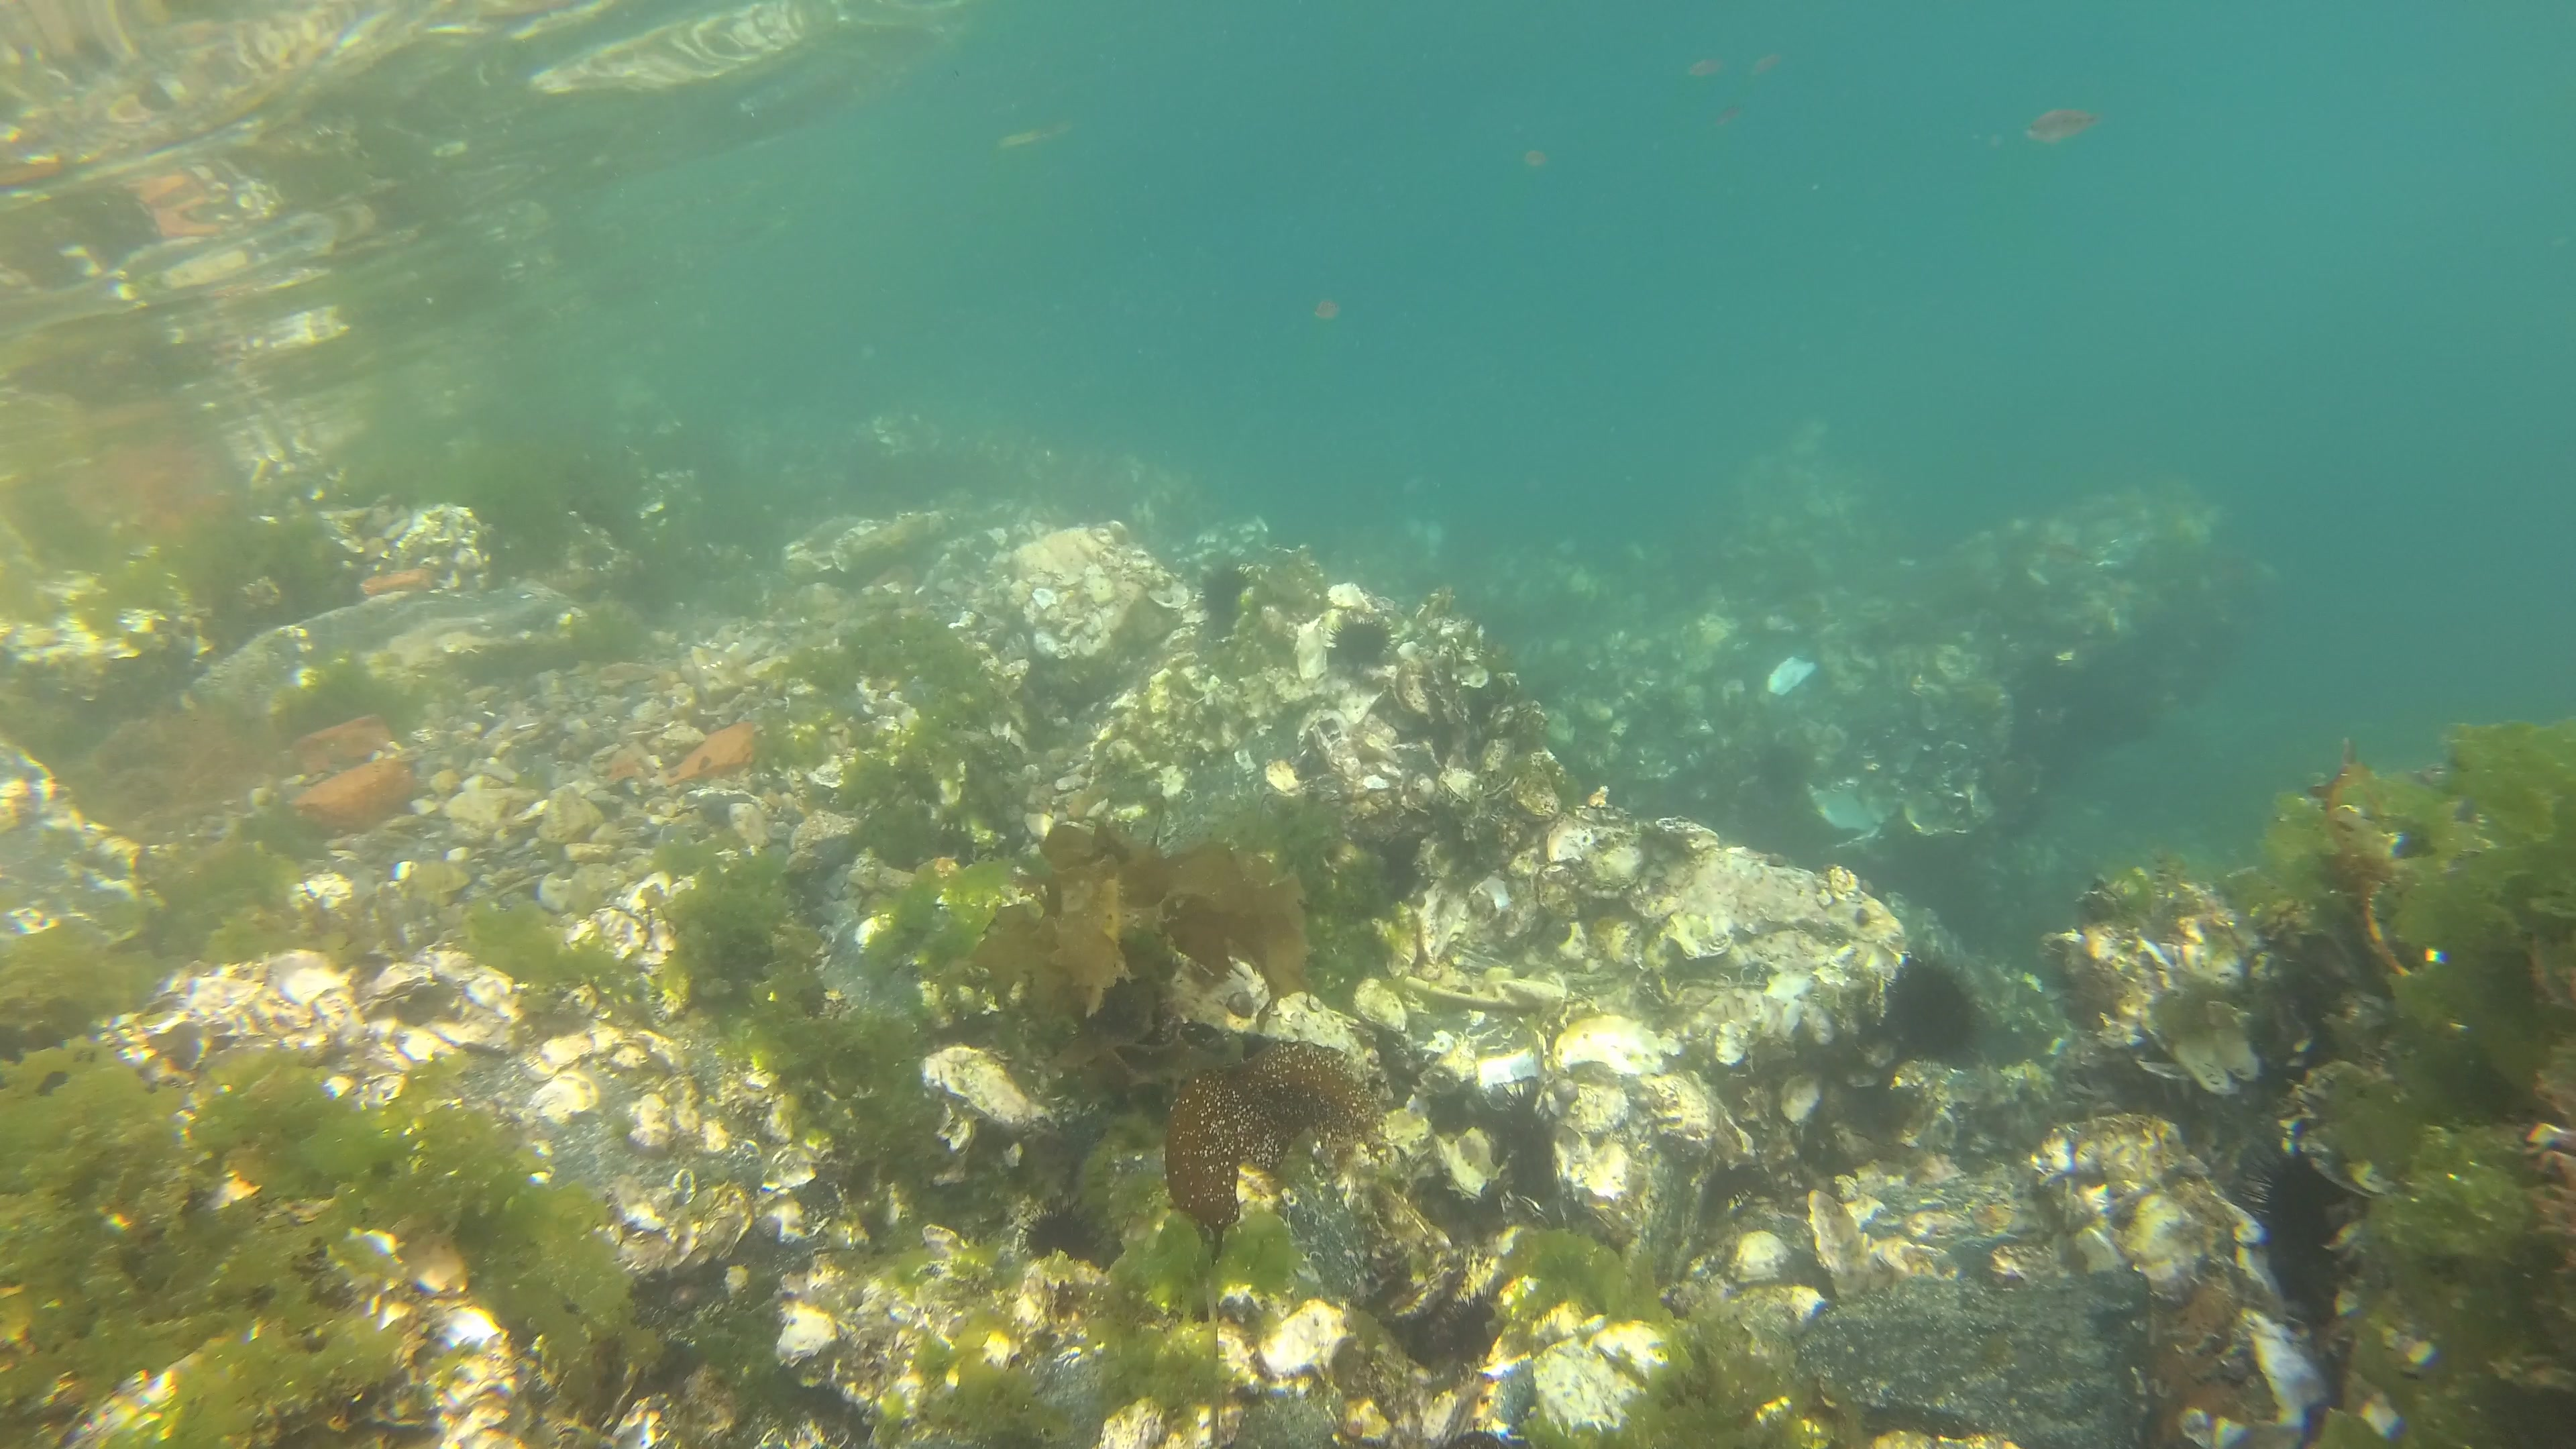echinus: (1875, 955, 1976, 1062), (2243, 1148, 2341, 1246), (1017, 1205, 1115, 1292), (1483, 1093, 1564, 1185), (1430, 1286, 1497, 1368), (1322, 614, 1396, 669), (1200, 564, 1247, 619)
